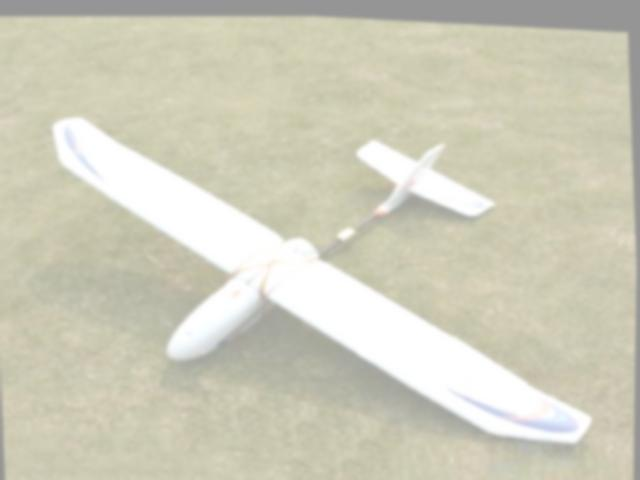uav: (47, 83, 603, 465)
